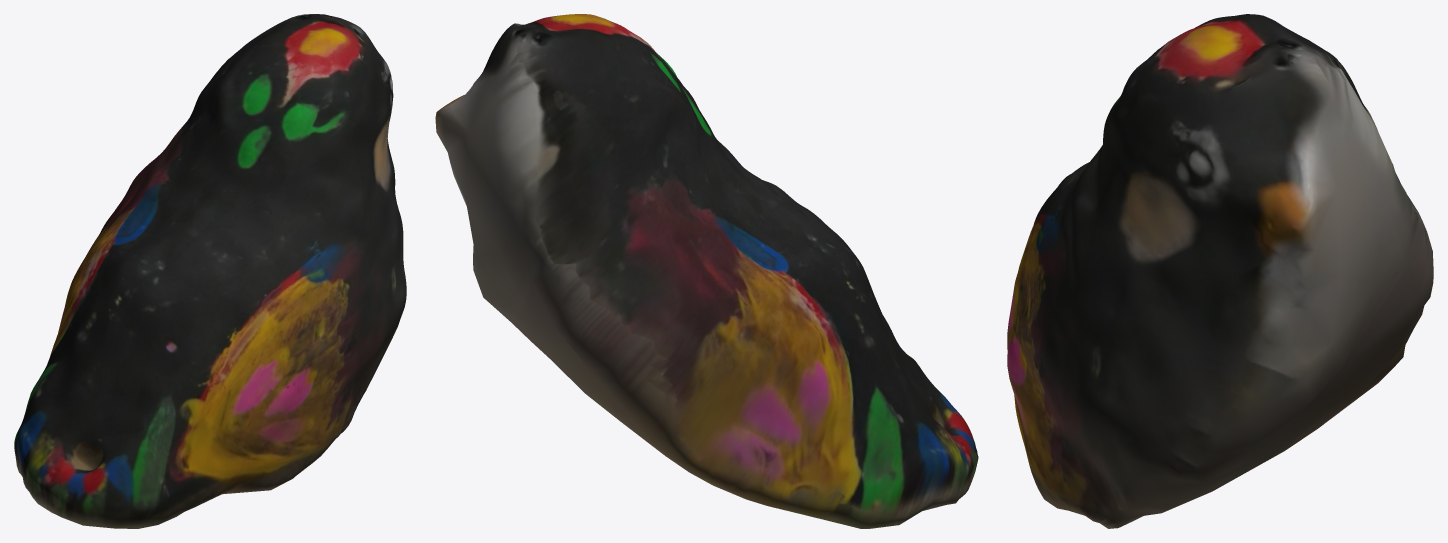
3 renders of one model, left to right at view 1: azimuth 30°, elevation 25°; view 2: azimuth 150°, elevation 25°; view 3: azimuth 270°, elevation 25°, orthographic. The views are drawn at different scales.
Bounding box in the file's own units: 0.4342 × 0.3951 × 0.2787.
1 material, 1 textured.
